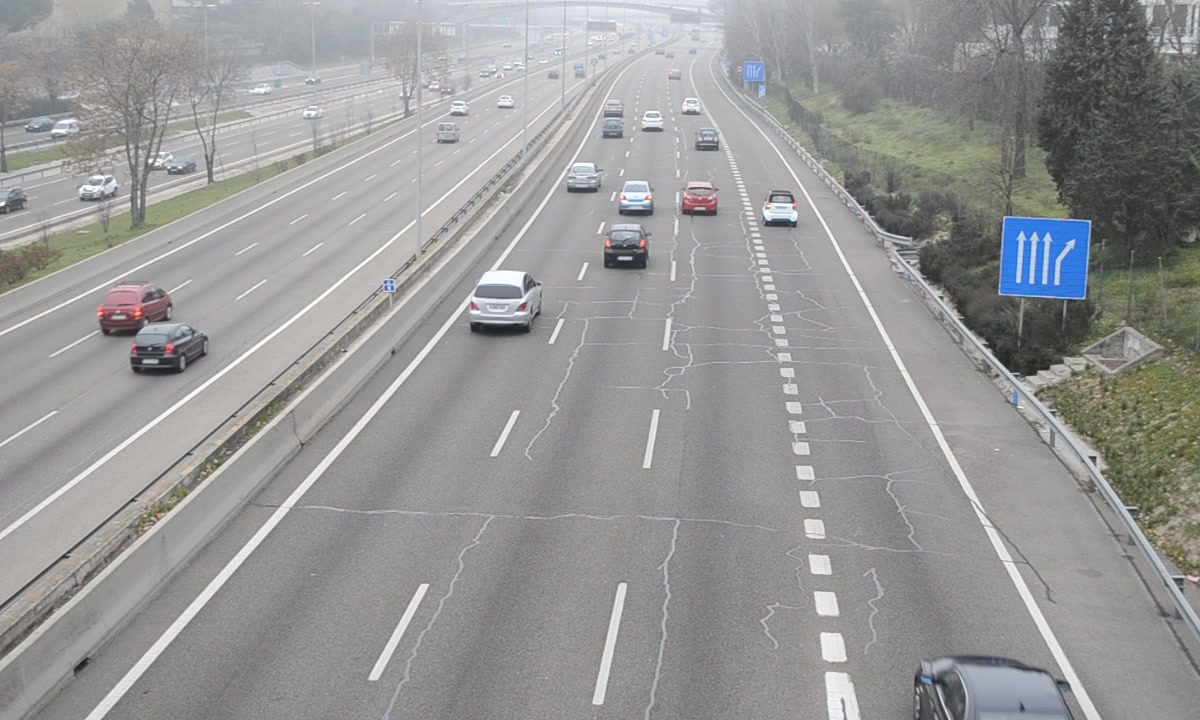car: (470, 269, 543, 326), (603, 224, 651, 269), (763, 189, 798, 228), (683, 181, 720, 217), (619, 180, 654, 216), (566, 163, 603, 194), (695, 128, 722, 153), (639, 110, 665, 132), (600, 118, 625, 140)
